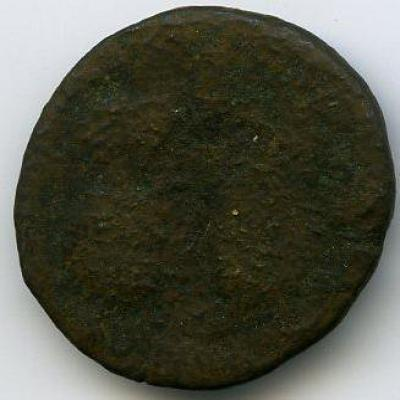numismatics: (15, 7, 395, 388)
